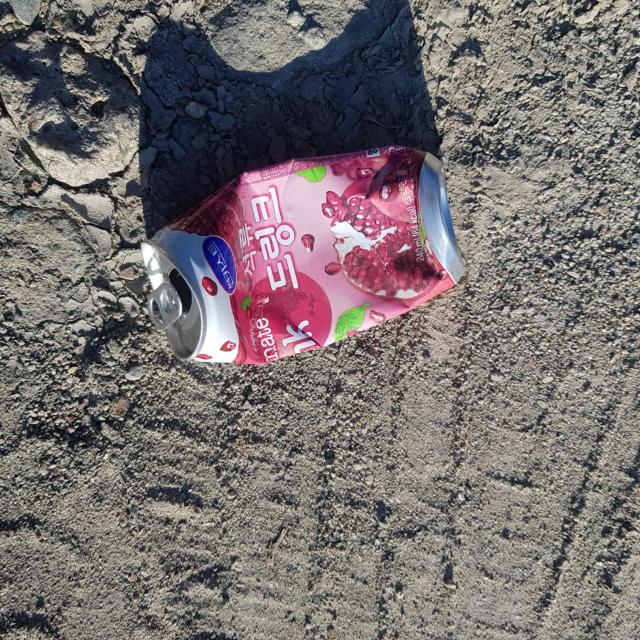can: (141, 146, 465, 364)
